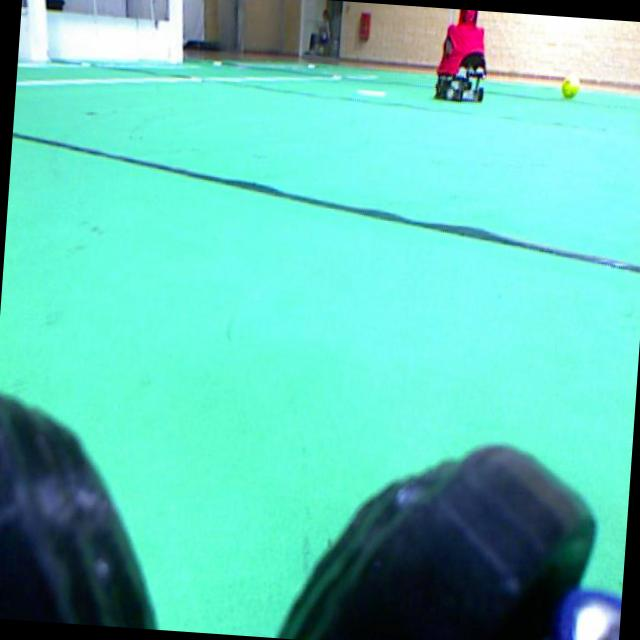ball: (561, 73, 578, 97)
goal: (32, 0, 47, 62), (168, 0, 182, 62)
